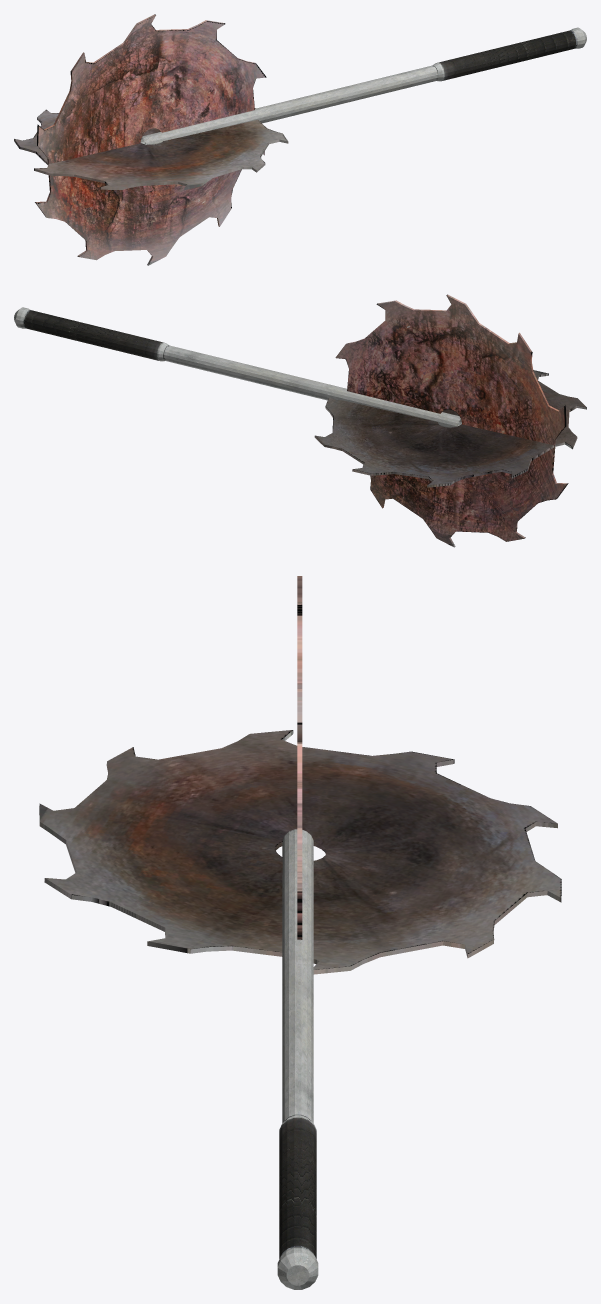
The model's file is Mace.FBX.
3 views of the same model, one above another, from view 1: azimuth 30°, elevation 25°; view 2: azimuth 150°, elevation 25°; view 3: azimuth 270°, elevation 25° (orthographic). The views are drawn at different scales.
Visible parts, largest first — view 1: Mace; view 2: Mace; view 3: Mace.
Boxes of the visible parts, bbox=[...] form: Mace: bbox=[14, 14, 586, 265]; Mace: bbox=[14, 294, 586, 547]; Mace: bbox=[39, 576, 561, 1289].
Size of the model in its own units: 18.11 by 7.81 by 7.43.
1 material, 1 textured.
